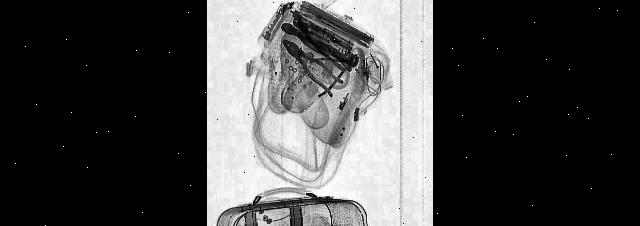Pliers: (282, 27, 344, 107)
